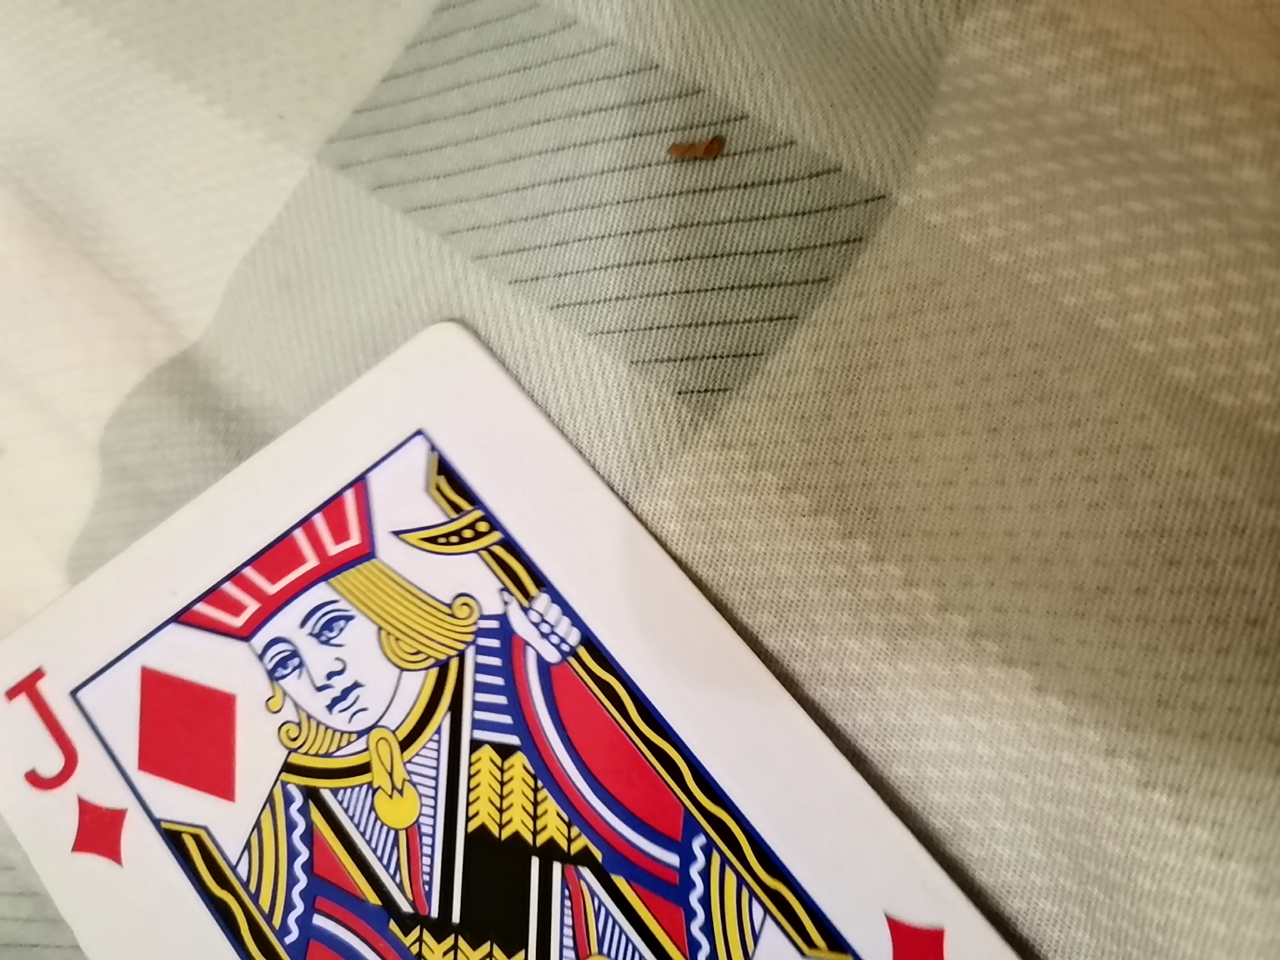fk j: (0, 316, 1102, 959)
